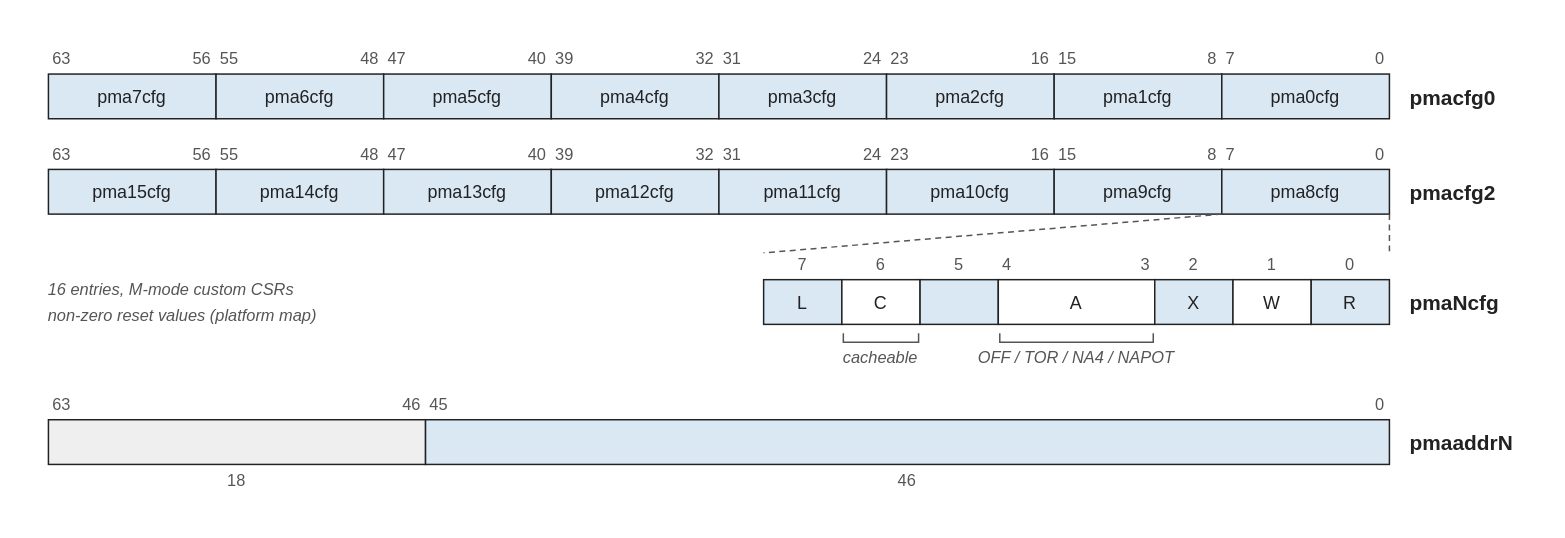
Image size: 1565x538. Some labels were removed from this diagram. Here are the shapes that lost their labels. From the top down, the box of each, then its label:
(919, 278, 998, 324): Atomic
(47, 418, 426, 464): not impl., read 0
(424, 418, 1389, 464): address = PA[47:2]
